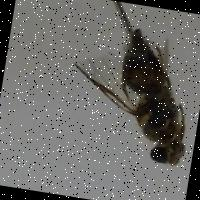Oriental-fruit-fly: (59, 17, 200, 170)
